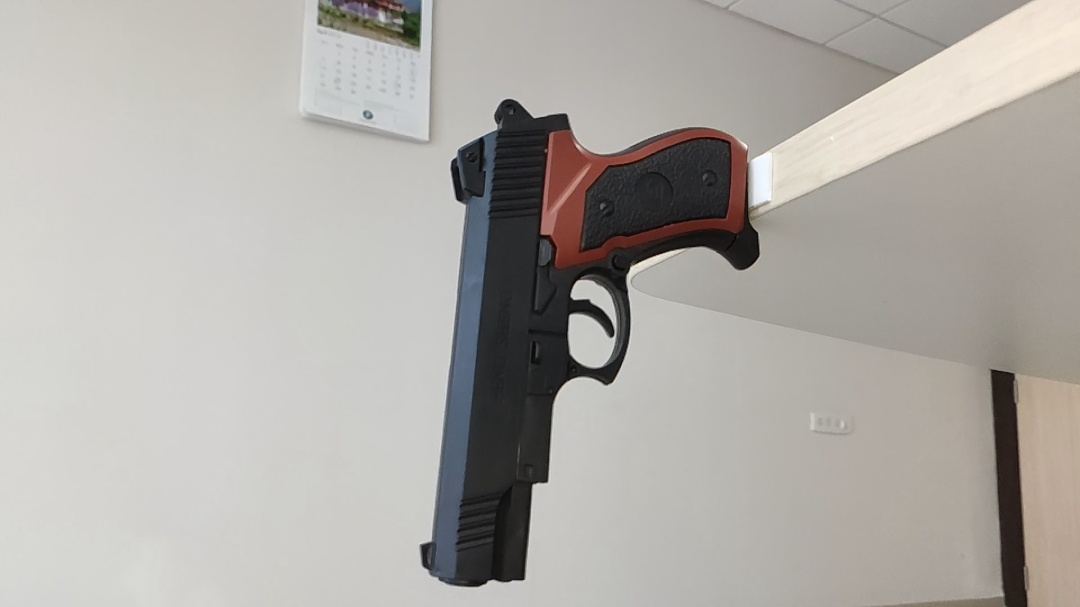gun: (406, 97, 763, 594)
